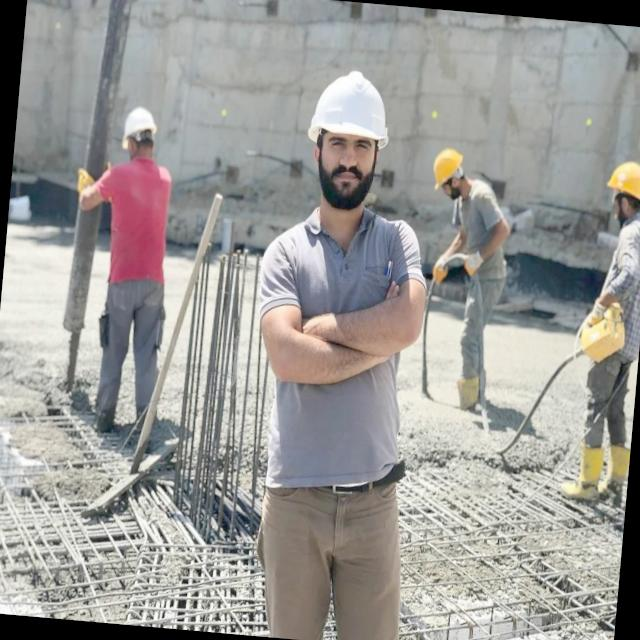Helmet: (307, 69, 395, 171), (120, 107, 161, 157), (603, 160, 640, 207), (431, 149, 464, 194)
NoJacket: (264, 194, 416, 496), (105, 149, 178, 285), (448, 181, 505, 280), (597, 212, 640, 339)
